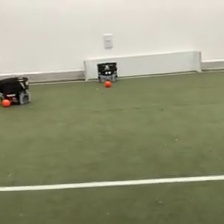ball: (1, 97, 11, 107), (103, 78, 112, 87)
goal: (82, 48, 204, 84)
robot: (1, 74, 33, 106), (95, 61, 120, 83)
